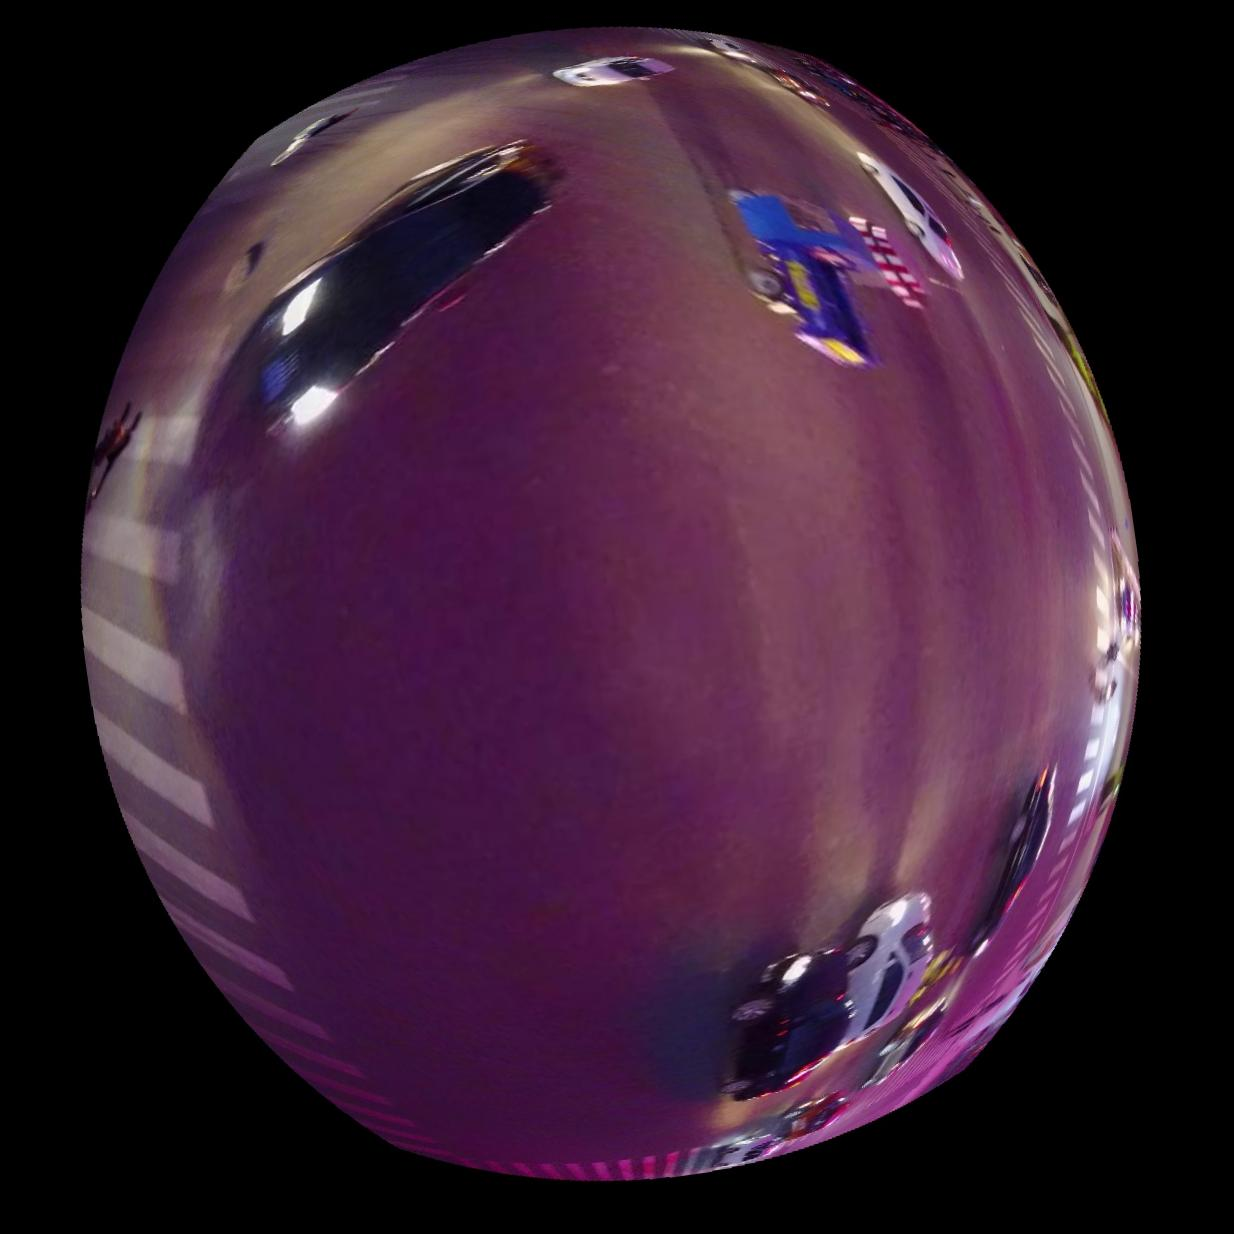cars: (229, 139, 558, 427), (729, 188, 876, 367), (719, 948, 851, 1102), (965, 764, 1055, 959), (857, 149, 963, 278), (842, 893, 932, 1043), (861, 1000, 947, 1089), (550, 52, 671, 85), (781, 1094, 846, 1144), (710, 1135, 782, 1171)
